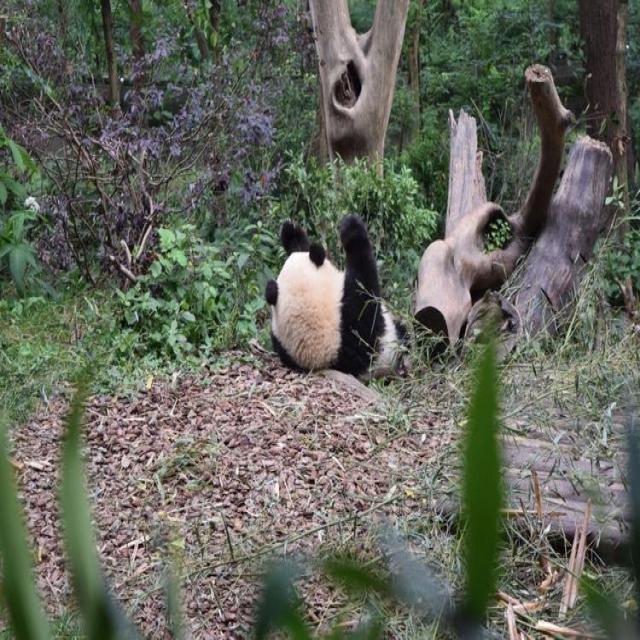panda: (266, 195, 478, 394)
